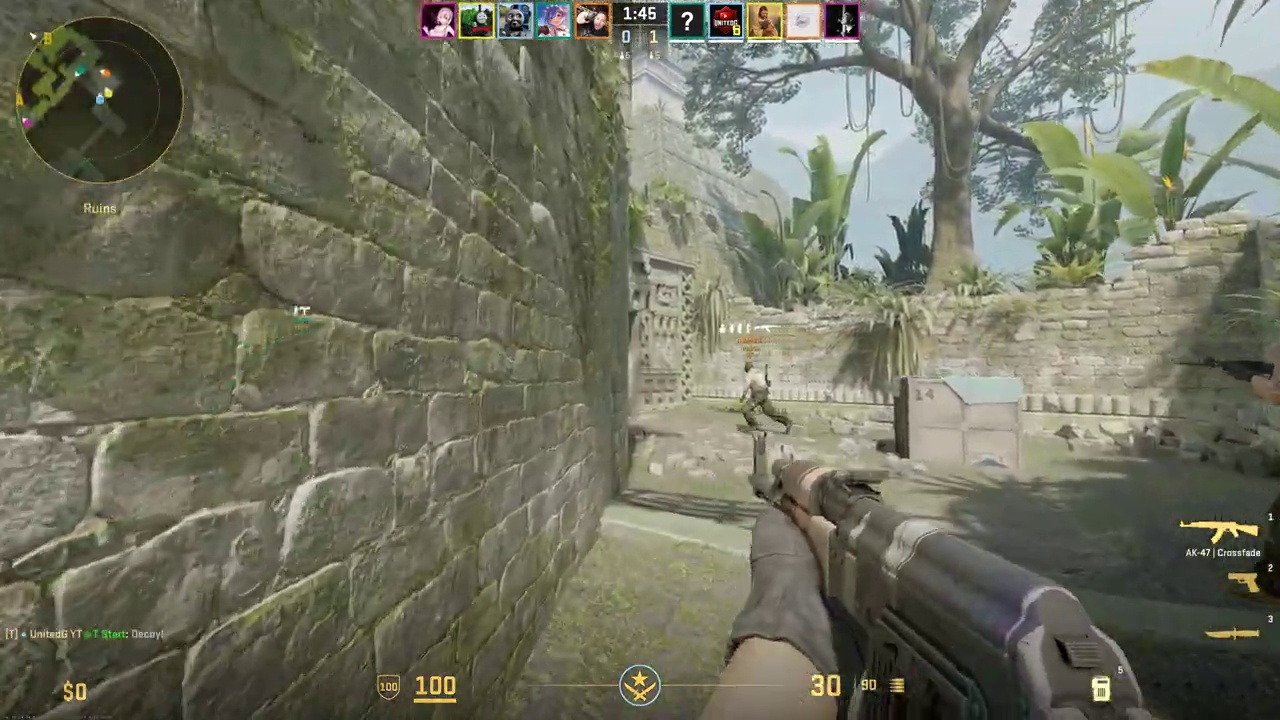Terrorist: (738, 361, 779, 432)
